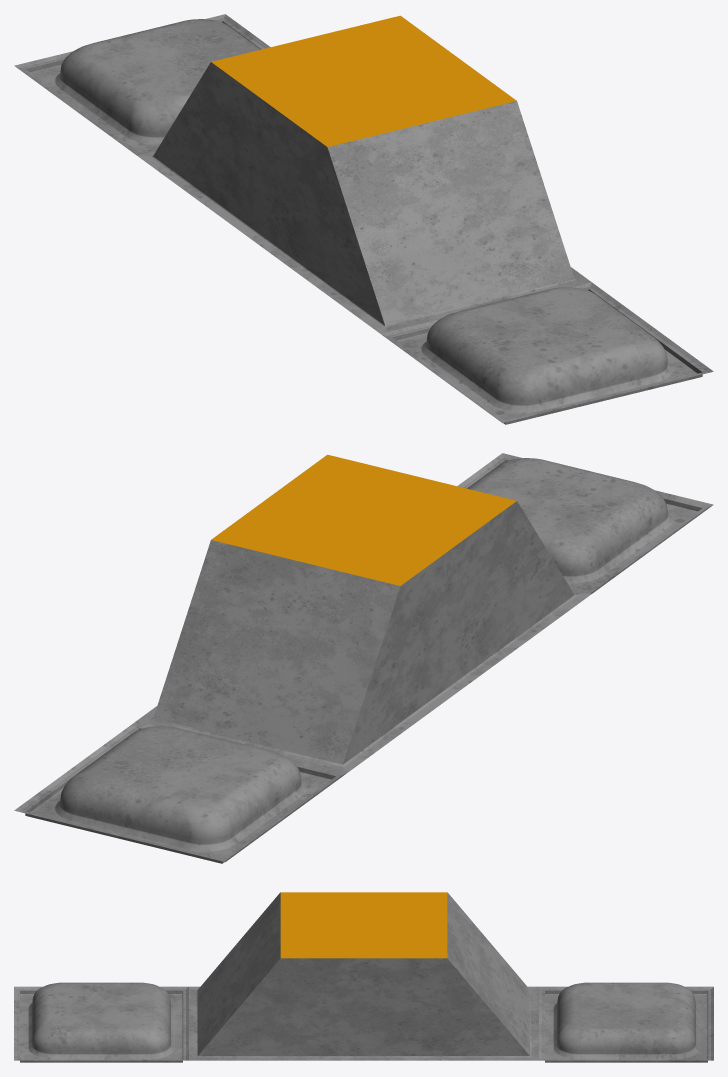
File: SM_Ceiling_24.fbx
3 renders of one model, top to bottom at view 1: azimuth 30°, elevation 25°; view 2: azimuth 150°, elevation 25°; view 3: azimuth 270°, elevation 25°, orthographic. The views are drawn at different scales.
Parts seen in each view (by area): view 1: SM_Ceiling_24; view 2: SM_Ceiling_24; view 3: SM_Ceiling_24.
Part boxes in pixels (x1=…): SM_Ceiling_24: x1=14, y1=14, x2=713, y2=424; SM_Ceiling_24: x1=14, y1=453, x2=713, y2=863; SM_Ceiling_24: x1=14, y1=892, x2=713, y2=1062.
Bounding box in the file's own units: 100 × 65.09 × 400.
